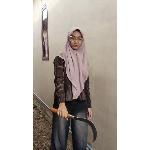Celurit: (46, 104, 102, 144)
